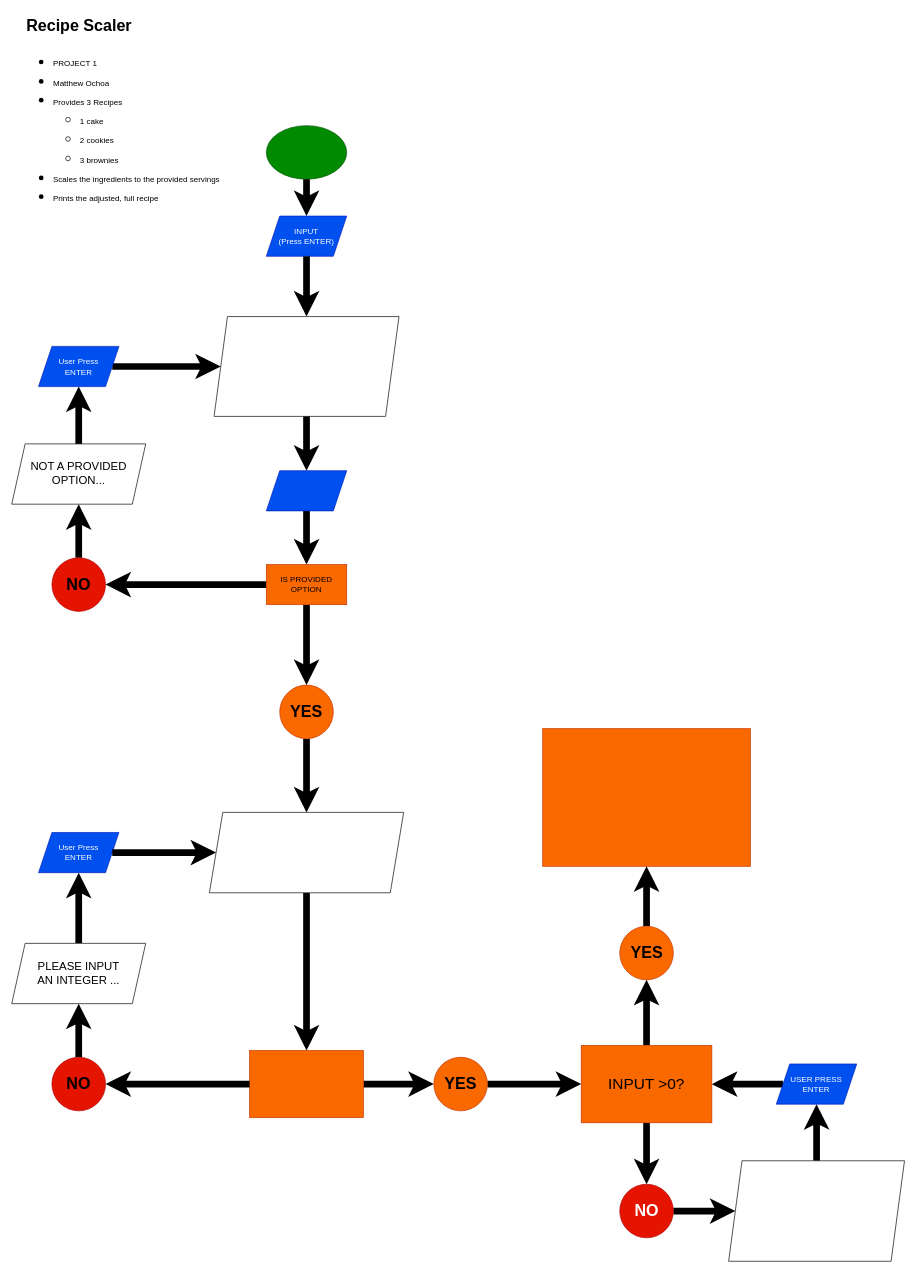
Image size: 917x1273. Some labels were removed from this diagram. Each missing label, with the centre of its shape:
"ENTER SERVINGS (Then Press ENTER)" belongs at point (306, 852).
"GET SELECTION" belongs at point (306, 490).
"IS AN INTEGER?" belongs at point (306, 1084).
"PLEASE ENTER A NUMBER GREATER THAN 0! ..." belongs at point (816, 1210).
"PRINT SCALED RECIPE" belongs at point (646, 797).
"SELECT RECIPE Cake Cookies Brownies" belongs at point (306, 366).
"START" belongs at point (306, 152).
